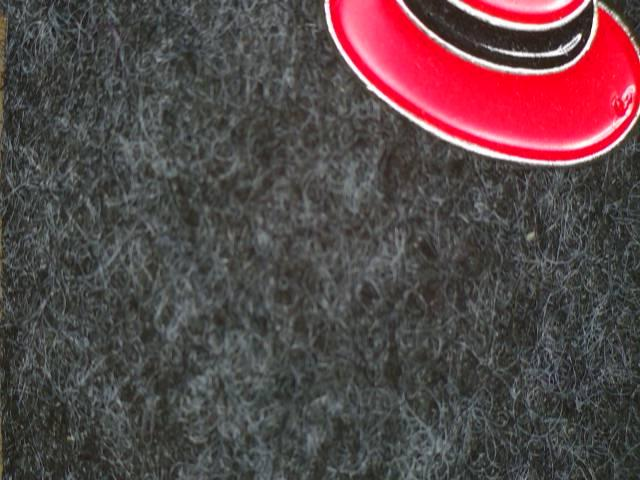Red-Hat: (279, 0, 640, 196)
